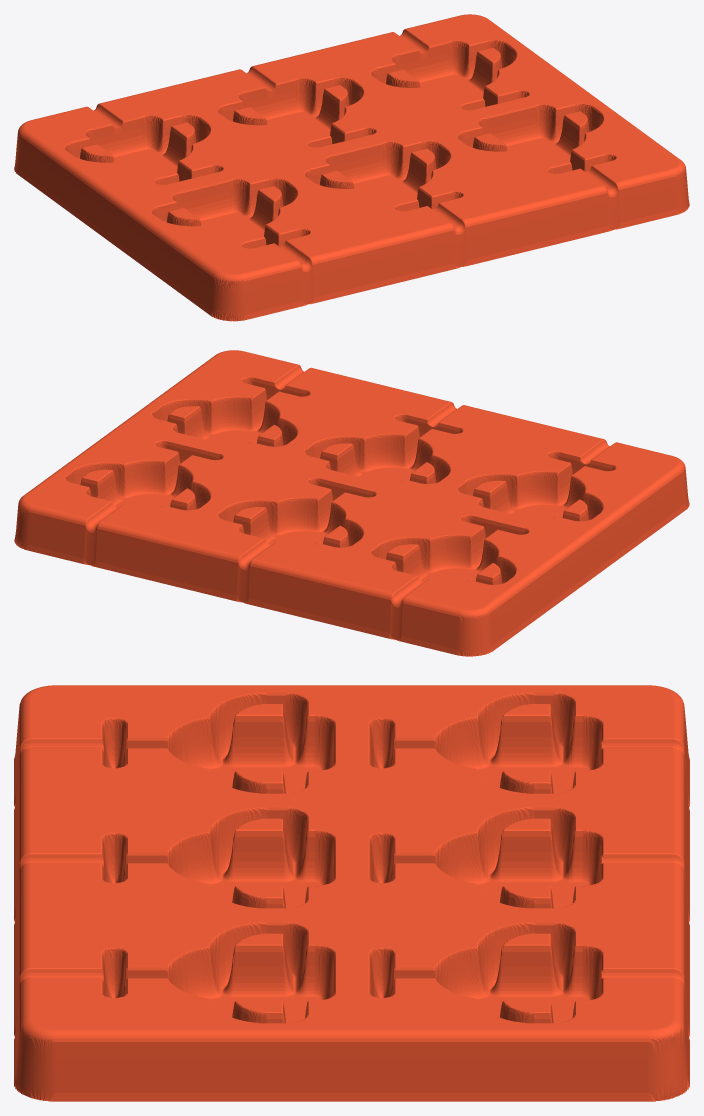
Rendered from mold.glb.
3 views of the same model, one above another, from view 1: azimuth 30°, elevation 25°; view 2: azimuth 150°, elevation 25°; view 3: azimuth 270°, elevation 25° (orthographic). The views are drawn at different scales.
Parts seen in each view (by area): view 1: geometry_0; view 2: geometry_0; view 3: geometry_0.
Boxes of the visible parts, <box> form: geometry_0: <box>14,14,689,321</box>; geometry_0: <box>14,350,689,656</box>; geometry_0: <box>14,685,689,1101</box>.
Bounding box in the file's own units: 0.1824 × 0.0155 × 0.1459.
